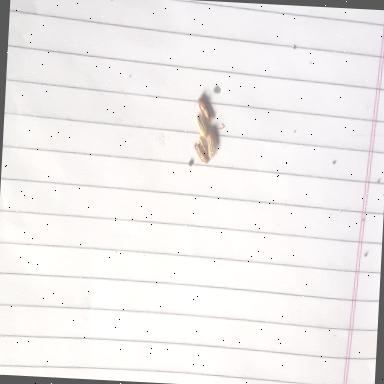pbw: (206, 122, 224, 159), (194, 96, 213, 123), (192, 138, 211, 165), (194, 113, 210, 140)
